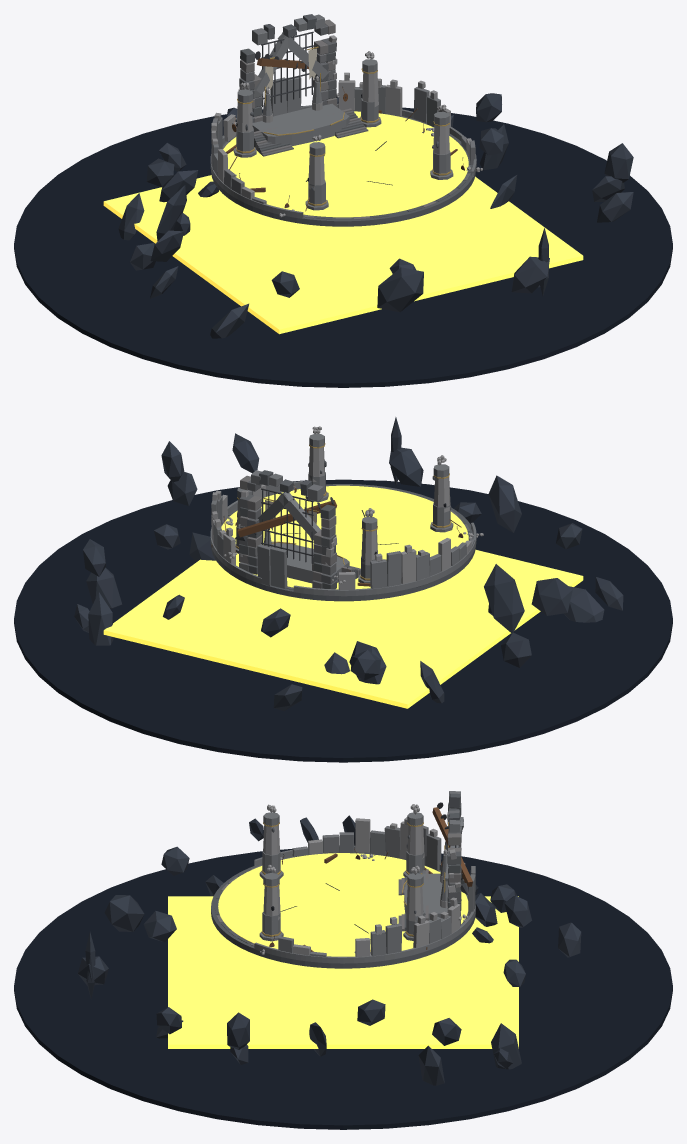
Rendered from saint_broken_siege_room.glb.
The picture shows the model from 3 angles, top to bottom: view 1: azimuth 30°, elevation 25°; view 2: azimuth 150°, elevation 25°; view 3: azimuth 270°, elevation 25°; orthographic projection.
Visible parts, largest first — view 1: Abyss_Backdrop, TRIGGER_Void_Kill_Zone, NAV_Boundary_Outer, Boss_Platform_Faceted, Arena_Foundation, Floating_Abyss_Rock_21, Floating_Abyss_Rock_14, Floating_Abyss_Rock_09, Floating_Abyss_Rock_11, Floating_Abyss_Rock_04, Floating_Abyss_Rock_13, Floating_Abyss_Rock_16 (+6 smaller); view 2: Abyss_Backdrop, TRIGGER_Void_Kill_Zone, NAV_Boundary_Outer, Arena_Foundation, Floating_Abyss_Rock_11, Floating_Abyss_Rock_21, Floating_Abyss_Rock_02, Danger_Ledge_1, Boss_Platform_Faceted, Floating_Abyss_Rock_16, Floating_Abyss_Rock_14, Floating_Abyss_Rock_03 (+18 smaller); view 3: Abyss_Backdrop, TRIGGER_Void_Kill_Zone, NAV_Boundary_Outer, Arena_Foundation, Floating_Abyss_Rock_21, Danger_Ledge_0, Boss_Platform_Faceted, Floating_Abyss_Rock_03, Floating_Abyss_Rock_15, Floating_Abyss_Rock_20, Floating_Abyss_Rock_09, Floating_Abyss_Rock_06 (+11 smaller).
Part boxes in pixels (box(x1,y1,x2,y2)): Abyss_Backdrop: box(14, 106, 672, 387); TRIGGER_Void_Kill_Zone: box(103, 175, 583, 334); NAV_Boundary_Outer: box(223, 111, 468, 217); Boss_Platform_Faceted: box(252, 103, 349, 146); Arena_Foundation: box(211, 110, 475, 226); Floating_Abyss_Rock_21: box(377, 267, 423, 312); Floating_Abyss_Rock_14: box(511, 256, 549, 293); Floating_Abyss_Rock_09: box(604, 143, 633, 182); Floating_Abyss_Rock_11: box(156, 185, 186, 241); Floating_Abyss_Rock_04: box(597, 192, 633, 222); Floating_Abyss_Rock_13: box(118, 193, 144, 240); Floating_Abyss_Rock_16: box(210, 303, 248, 338); Abyss_Backdrop: box(14, 479, 672, 762); TRIGGER_Void_Kill_Zone: box(103, 549, 583, 708); NAV_Boundary_Outer: box(221, 485, 468, 589); Arena_Foundation: box(211, 484, 475, 601); Floating_Abyss_Rock_11: box(484, 564, 524, 633); Floating_Abyss_Rock_21: box(488, 475, 521, 532); Floating_Abyss_Rock_02: box(531, 578, 572, 615); Danger_Ledge_1: box(293, 562, 458, 596); Boss_Platform_Faceted: box(271, 541, 349, 583); Floating_Abyss_Rock_16: box(564, 586, 604, 622); Floating_Abyss_Rock_14: box(389, 447, 423, 486); Floating_Abyss_Rock_03: box(88, 592, 113, 645); Abyss_Backdrop: box(14, 849, 672, 1129); TRIGGER_Void_Kill_Zone: box(168, 896, 518, 1048); NAV_Boundary_Outer: box(218, 853, 468, 956); Arena_Foundation: box(211, 852, 475, 968); Floating_Abyss_Rock_21: box(104, 895, 144, 931); Danger_Ledge_0: box(343, 909, 475, 963); Boss_Platform_Faceted: box(404, 873, 447, 919); Floating_Abyss_Rock_03: box(491, 1023, 521, 1069); Floating_Abyss_Rock_15: box(418, 1045, 444, 1085); Floating_Abyss_Rock_20: box(143, 911, 176, 942); Floating_Abyss_Rock_09: box(227, 1012, 249, 1049); Floating_Abyss_Rock_06: box(558, 922, 581, 957).
Size of what is drawn, in the model's own units: 132 by 45.63 by 132.
